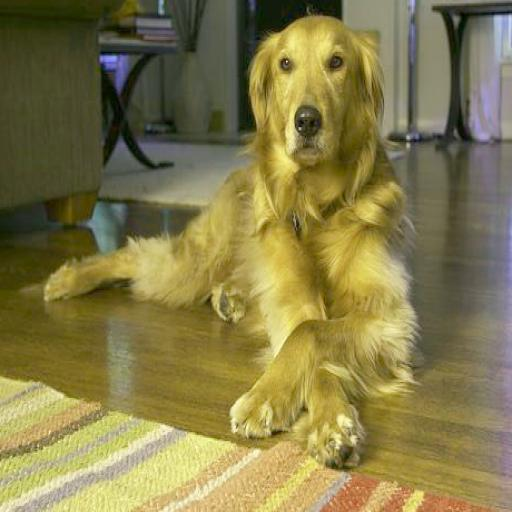dog_face: (239, 5, 378, 164)
